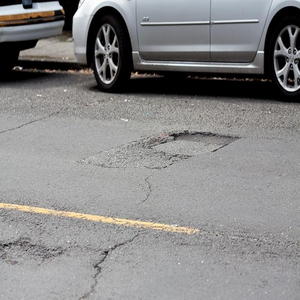pothole: (148, 127, 238, 162)
